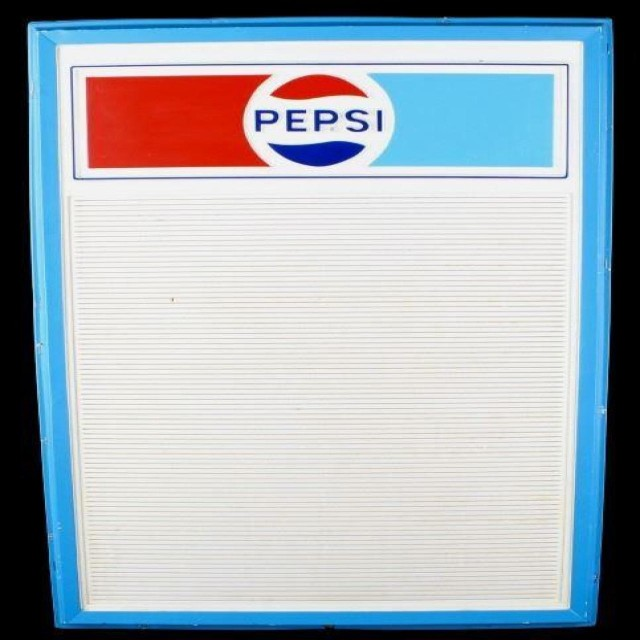pepsi: (241, 65, 402, 178)
